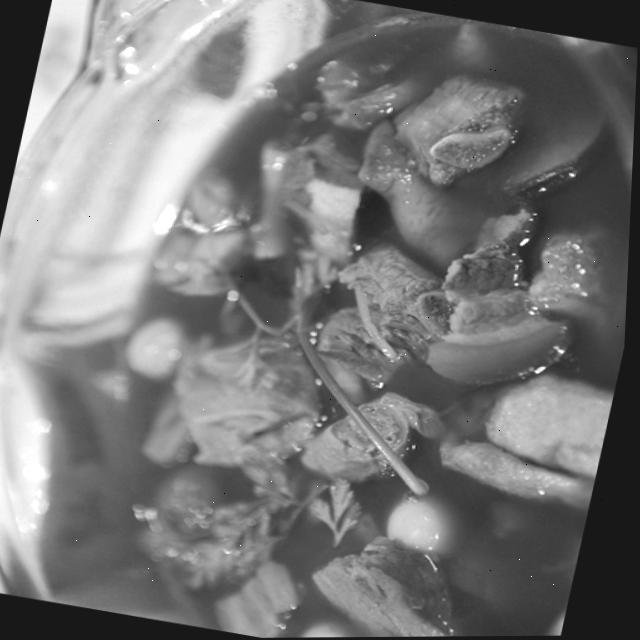汤锅炖物: (20, 0, 640, 640)
